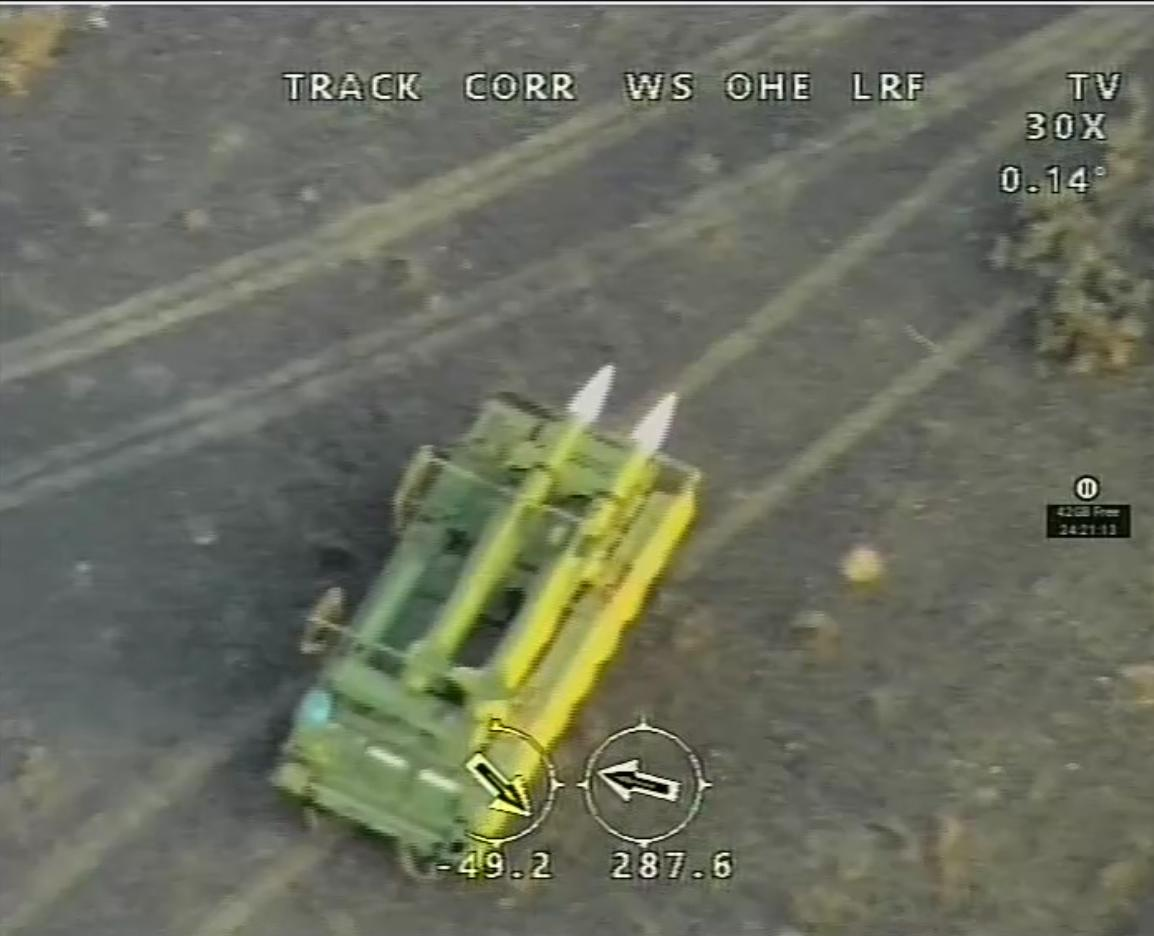armored_car: (254, 358, 714, 873)
